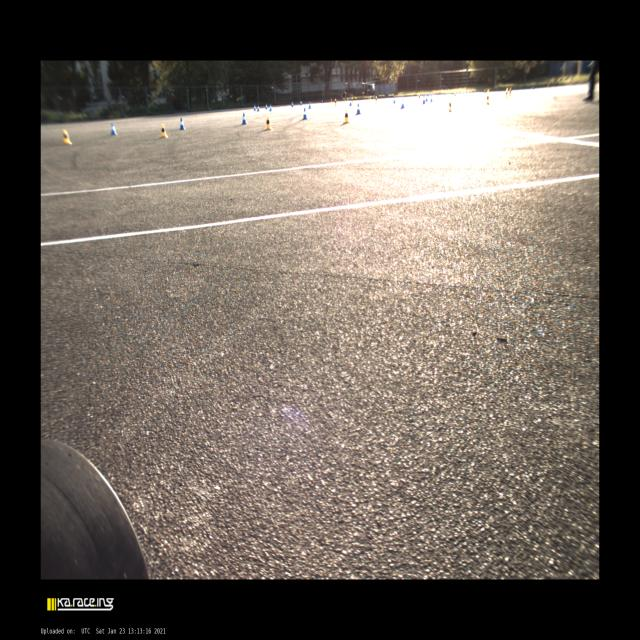blue_cone: (179, 118, 186, 130), (111, 123, 117, 135), (242, 112, 248, 124), (302, 108, 308, 119), (356, 103, 361, 114), (400, 98, 404, 109), (422, 94, 426, 104), (393, 95, 396, 104), (430, 93, 433, 102), (308, 101, 311, 109), (269, 104, 272, 111), (349, 99, 352, 106), (426, 94, 428, 102), (257, 104, 259, 111), (254, 104, 256, 111), (265, 104, 267, 109), (300, 100, 302, 105), (292, 101, 293, 107), (373, 96, 375, 99), (322, 99, 323, 103), (444, 92, 445, 95)
yellow_cone: (63, 129, 72, 143), (161, 124, 168, 138), (343, 110, 350, 124), (265, 116, 271, 130), (449, 101, 452, 112), (486, 94, 489, 104), (509, 87, 512, 96), (506, 88, 508, 99), (376, 95, 378, 104), (335, 98, 337, 106), (343, 97, 345, 103), (355, 96, 357, 102), (419, 93, 420, 100), (331, 98, 332, 104), (347, 96, 348, 102), (370, 95, 371, 101), (352, 97, 353, 102)
